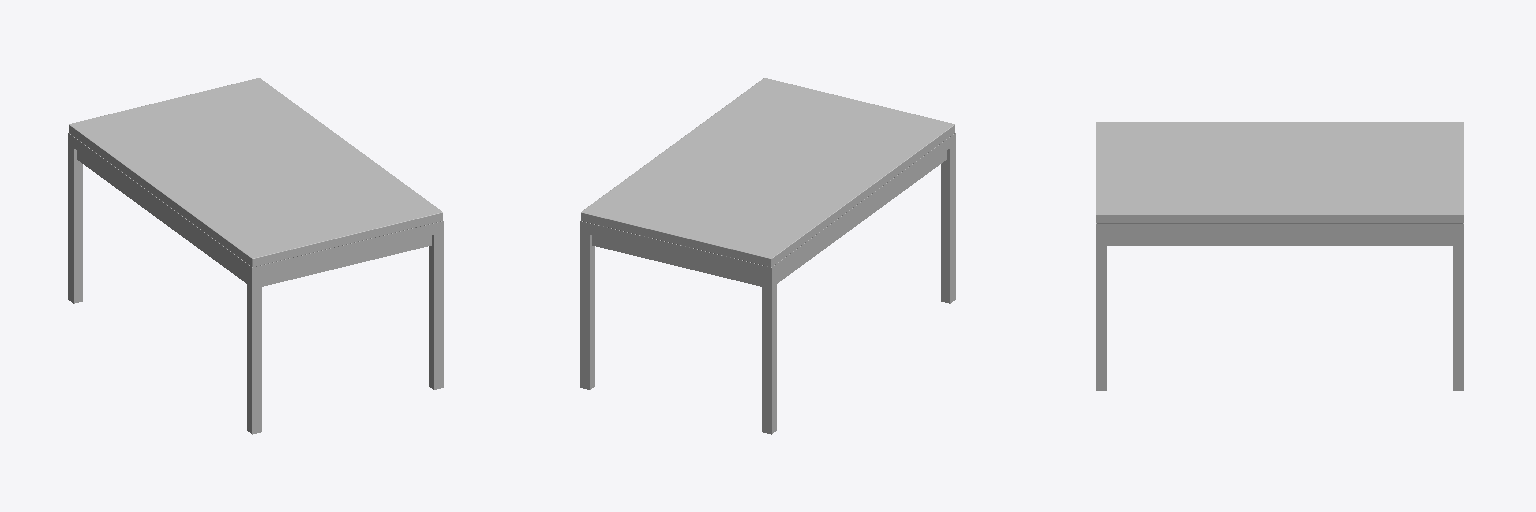
Rendered from Dining Table (L150xW100xH75cm).obj.
3 views of the same model, side by side, from view 1: azimuth 30°, elevation 25°; view 2: azimuth 150°, elevation 25°; view 3: azimuth 270°, elevation 25° (orthographic).
Visible parts, largest first — view 1: Dining_Table_(L150xW100xH75cm)_-_Tabletop_Dining_Table_(L150xW10, Dining_Table_(L150xW100xH75cm)_-_Table_Legs_&_Base_Dining_Table_; view 2: Dining_Table_(L150xW100xH75cm)_-_Tabletop_Dining_Table_(L150xW10, Dining_Table_(L150xW100xH75cm)_-_Table_Legs_&_Base_Dining_Table_; view 3: Dining_Table_(L150xW100xH75cm)_-_Tabletop_Dining_Table_(L150xW10, Dining_Table_(L150xW100xH75cm)_-_Table_Legs_&_Base_Dining_Table_.
Part boxes in pixels (x1,y1,x2,y2): Dining_Table_(L150xW100xH75cm)_-_Tabletop_Dining_Table_(L150xW10: (69, 78, 442, 266); Dining_Table_(L150xW100xH75cm)_-_Table_Legs_&_Base_Dining_Table_: (68, 133, 443, 434); Dining_Table_(L150xW100xH75cm)_-_Tabletop_Dining_Table_(L150xW10: (581, 78, 954, 266); Dining_Table_(L150xW100xH75cm)_-_Table_Legs_&_Base_Dining_Table_: (580, 133, 955, 434); Dining_Table_(L150xW100xH75cm)_-_Tabletop_Dining_Table_(L150xW10: (1096, 122, 1463, 223); Dining_Table_(L150xW100xH75cm)_-_Table_Legs_&_Base_Dining_Table_: (1096, 223, 1463, 390).
Bounding box in the file's own units: 90 × 79 × 150.